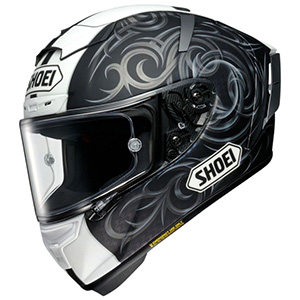with_helmet: (16, 2, 286, 297)
